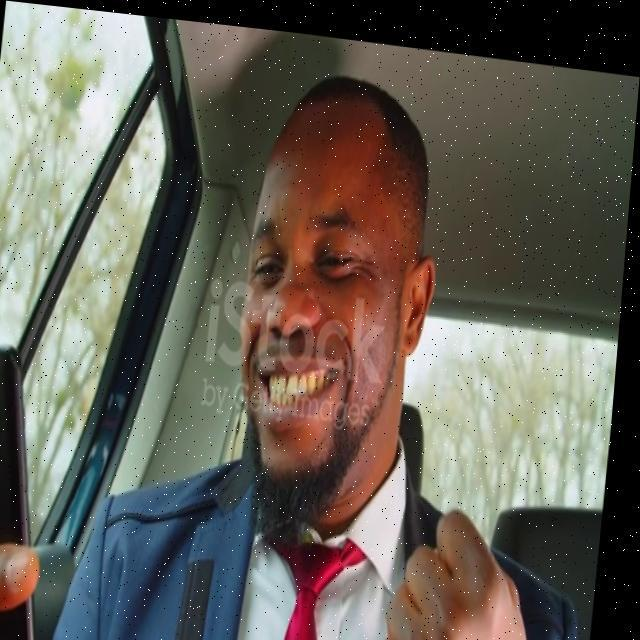PhoneCall: (0, 328, 67, 640)
